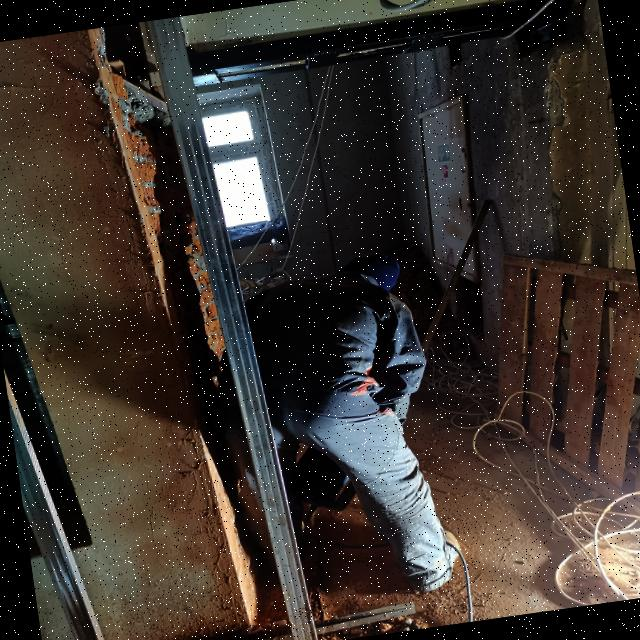NoHelmet: (339, 251, 406, 303)
